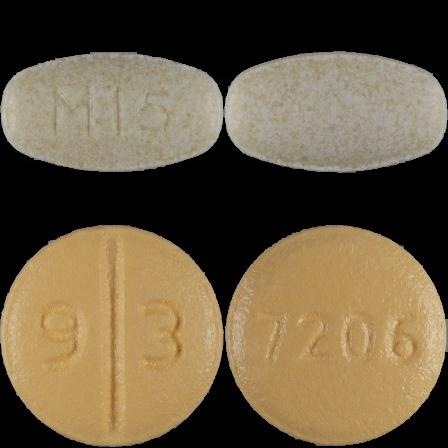0178-0615: (0, 0, 224, 224)
